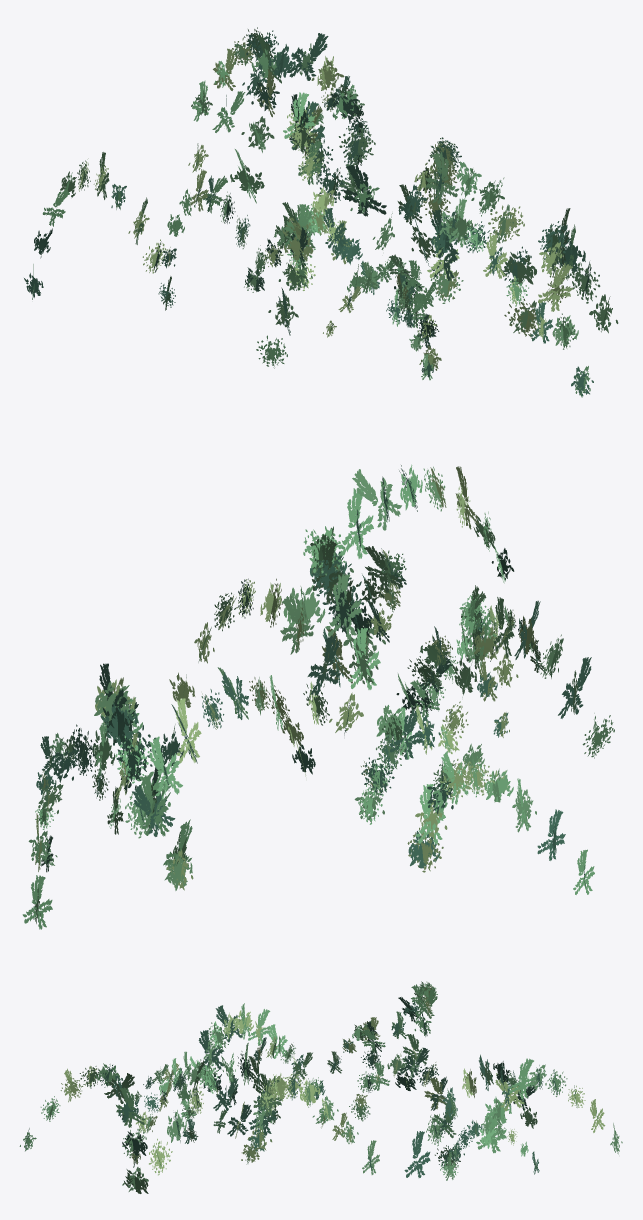
The model's file is Wetland_11_Helecho_Humedo.glb.
3 renders of one model, top to bottom at view 1: azimuth 30°, elevation 25°; view 2: azimuth 150°, elevation 25°; view 3: azimuth 270°, elevation 25°, orthographic. The views are drawn at different scales.
Parts seen in each view (by area): view 1: Wetland_11_Helecho_Humedo; view 2: Wetland_11_Helecho_Humedo; view 3: Wetland_11_Helecho_Humedo.
Boxes of the visible parts, x1,y1,x2,y2 form: Wetland_11_Helecho_Humedo: (24, 27, 618, 397); Wetland_11_Helecho_Humedo: (22, 464, 614, 929); Wetland_11_Helecho_Humedo: (19, 981, 622, 1193).
Size of the model in its own units: 1.33 by 0.5177 by 2.16.
Materials: 1 (1 with a texture image).
